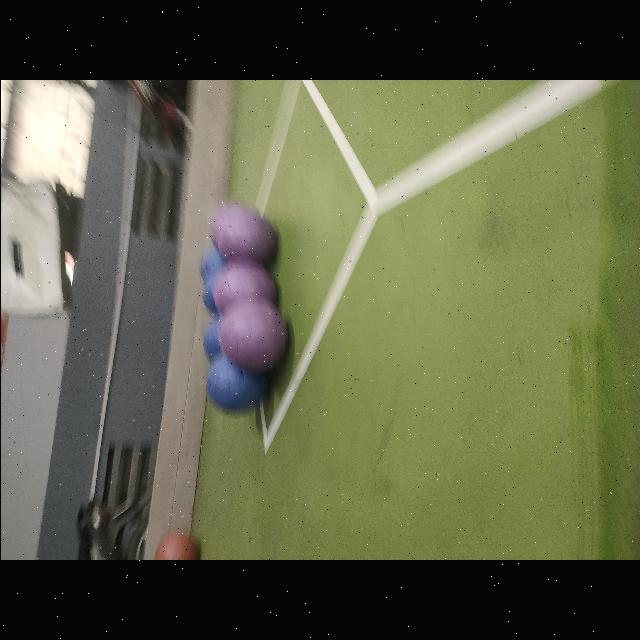B: (205, 352, 267, 410), (199, 246, 223, 288)
P: (218, 297, 286, 371), (206, 258, 274, 320), (208, 202, 274, 262)
R: (153, 534, 197, 560)
